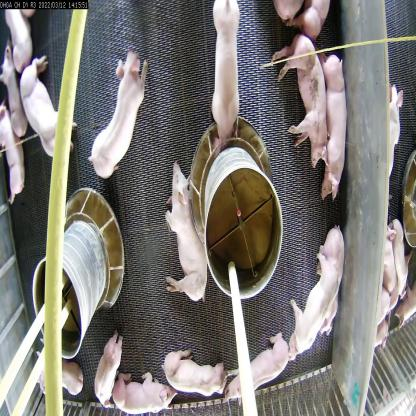Pig: (268, 34, 332, 169), (89, 47, 146, 183), (158, 167, 208, 321), (200, 0, 249, 139), (312, 45, 352, 206), (20, 53, 78, 164), (284, 256, 338, 363), (221, 334, 293, 404), (318, 221, 352, 346), (163, 338, 227, 401), (112, 366, 174, 415), (0, 108, 28, 204), (38, 356, 84, 410), (95, 334, 128, 398)
